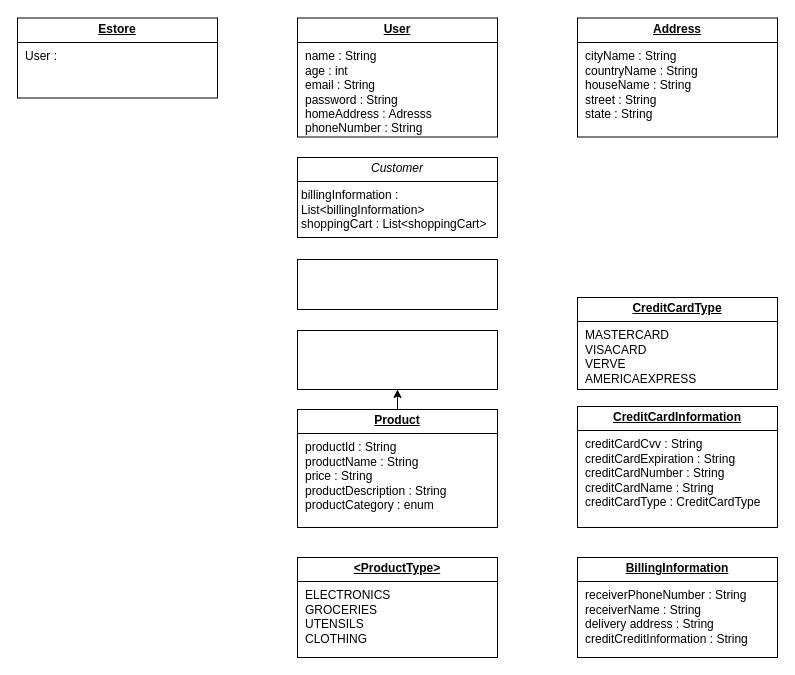
This 795x675 diagram has some shape labels left out. The shapes that lost their labels are listed below. From the top down, each one's centre as x and y in pixels, then its label:
At point 397,284: "ShoppingCart shoppingCart : List<items>".
At point 397,360: "Items items : String".
